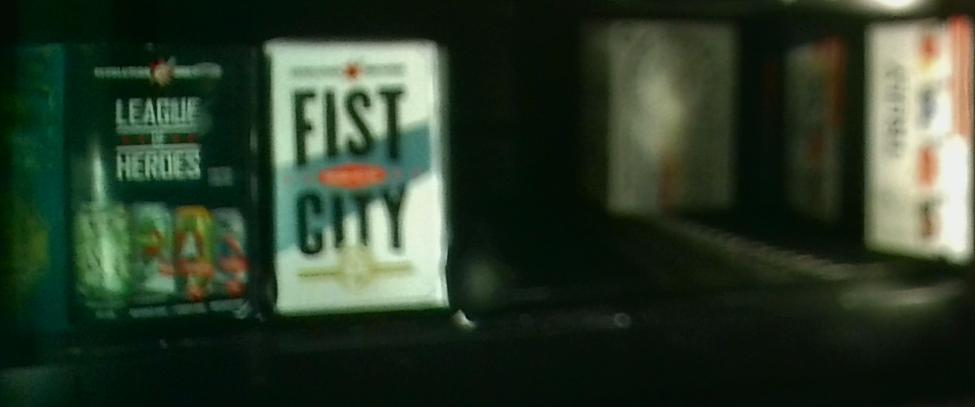bottle: (70, 45, 259, 328), (261, 41, 450, 312), (1, 48, 67, 332)
